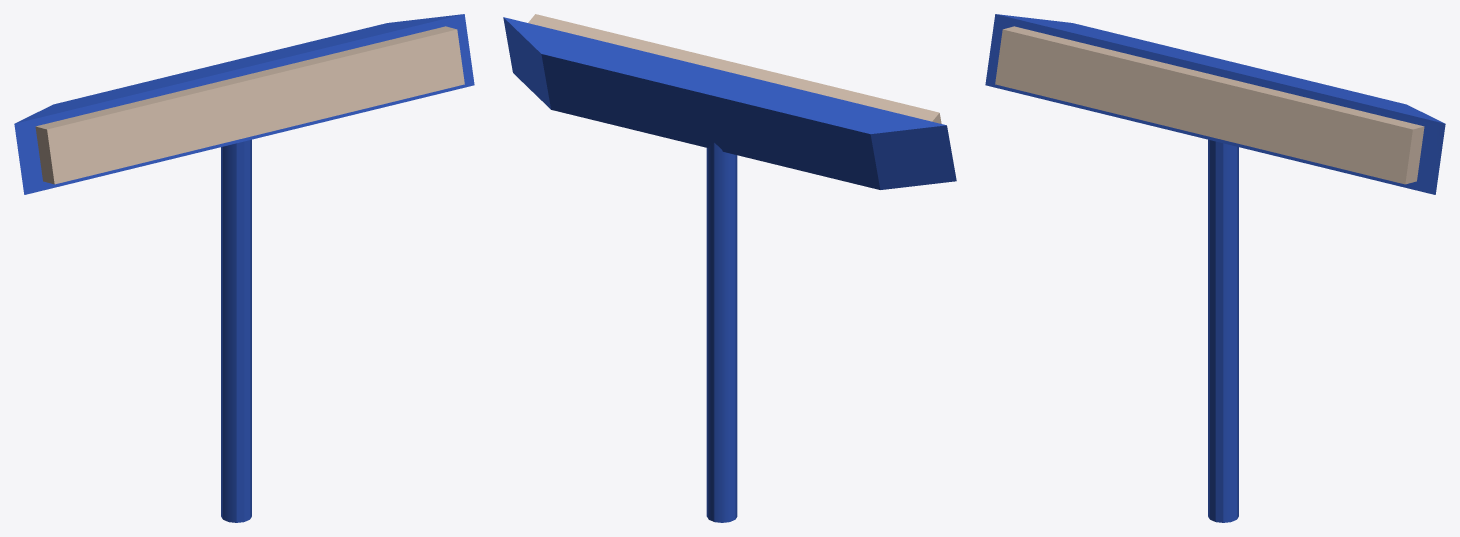
The model's file is Window_Cleaner.fbx.
The picture shows the model from 3 angles, left to right: view 1: azimuth 30°, elevation 25°; view 2: azimuth 150°, elevation 25°; view 3: azimuth 330°, elevation 25°; orthographic projection.
Parts seen in each view (by area): view 1: Window Cleaner; view 2: Window Cleaner; view 3: Window Cleaner.
Part boxes in pixels (x1,y1,x2,y2): Window Cleaner: (14, 14, 474, 522); Window Cleaner: (503, 14, 956, 522); Window Cleaner: (985, 14, 1445, 522).
Size of the model in its own units: 63.73 by 60.81 by 9.71.
